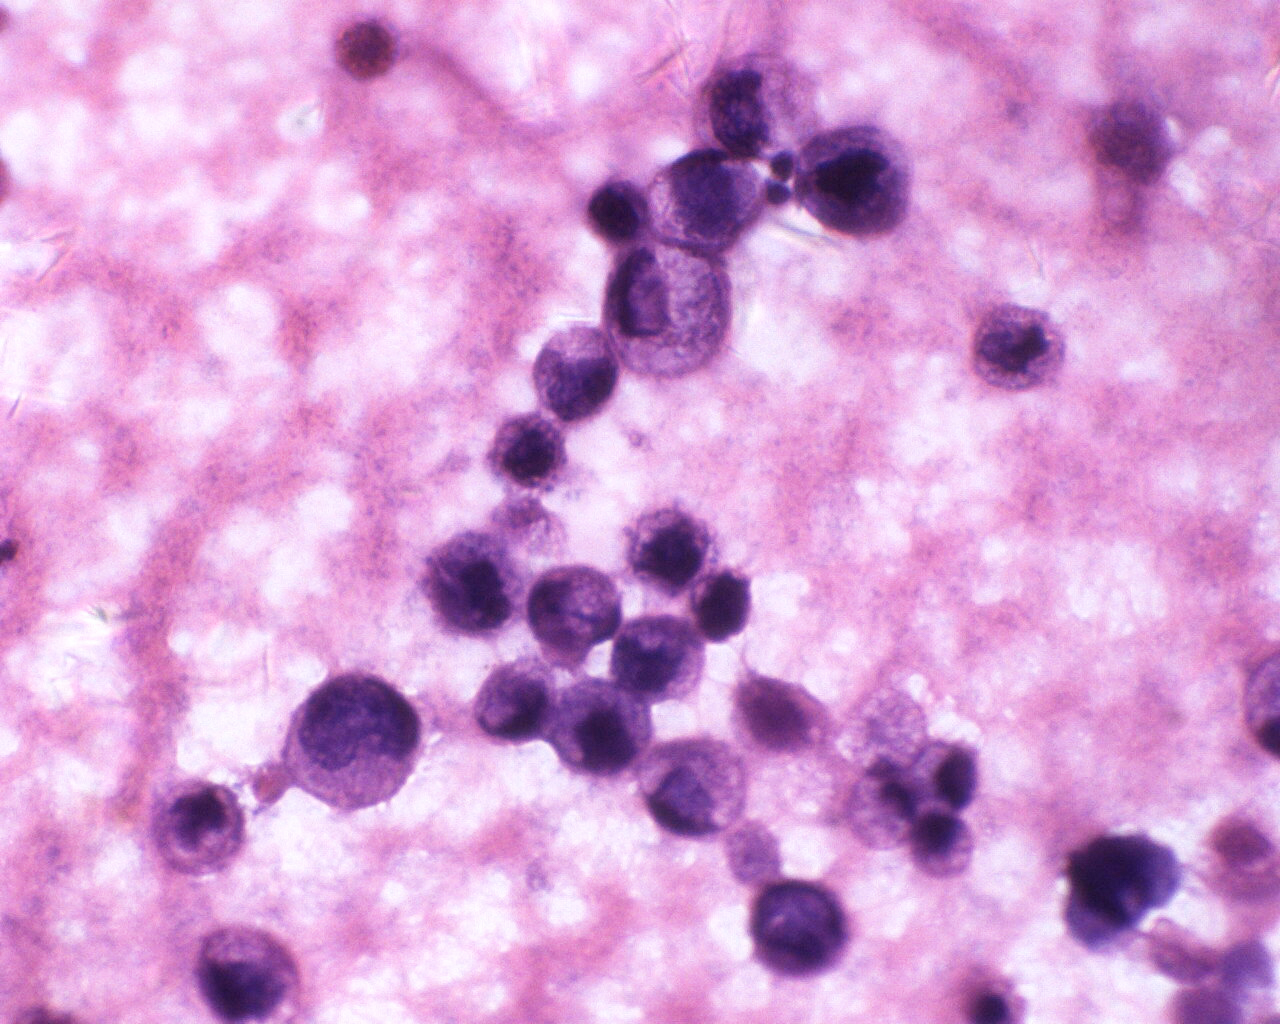ab: (279, 664, 424, 812), (795, 119, 910, 243), (189, 921, 313, 1024), (746, 871, 855, 984), (548, 676, 656, 776), (967, 298, 1072, 395), (531, 320, 626, 422), (609, 612, 711, 707), (623, 505, 712, 596), (480, 414, 577, 494), (584, 171, 655, 250)
